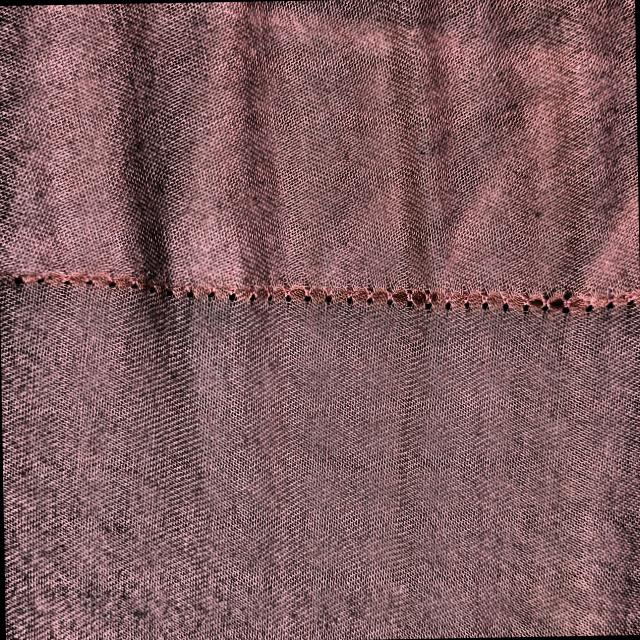seam: (347, 261, 586, 338)
